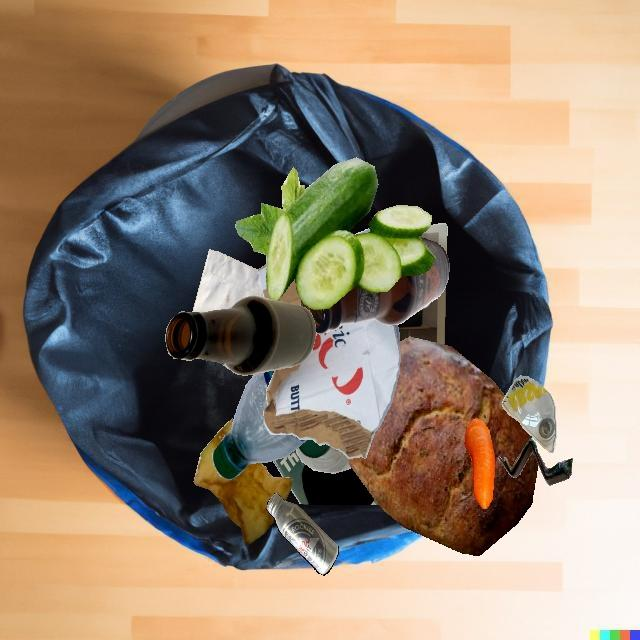biowaste: (347, 337, 538, 556), (235, 158, 435, 309), (193, 418, 292, 544), (465, 418, 495, 508)
cardboard: (263, 319, 400, 459), (266, 235, 355, 369), (498, 439, 573, 485)
glass: (300, 237, 450, 334), (165, 295, 316, 376), (502, 376, 556, 453)
metal: (266, 493, 338, 575)
paper: (273, 449, 379, 505), (192, 249, 264, 313), (397, 285, 446, 345), (419, 223, 447, 255)
plastic: (213, 370, 308, 480), (296, 439, 351, 474)
